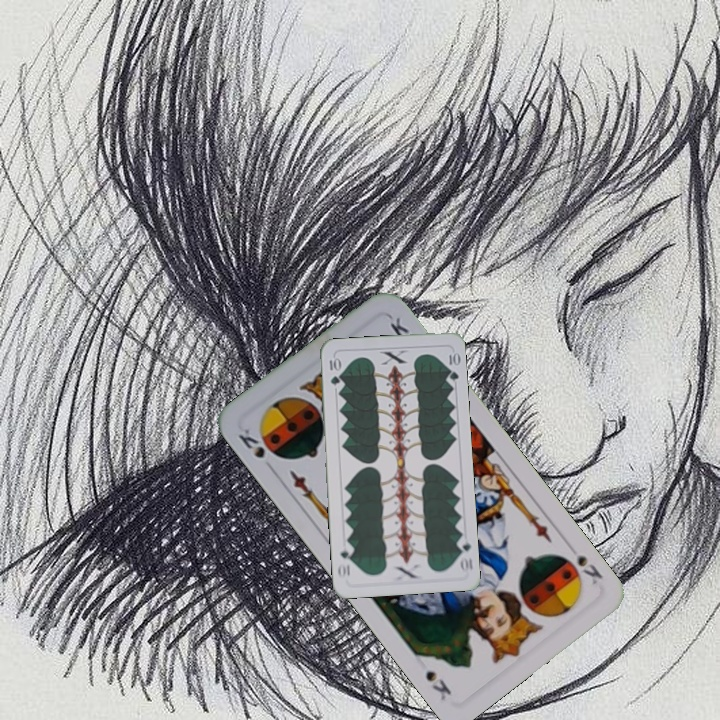G10: (454, 534, 475, 574), (325, 353, 342, 388)
SK: (572, 549, 606, 587), (234, 424, 268, 461)
